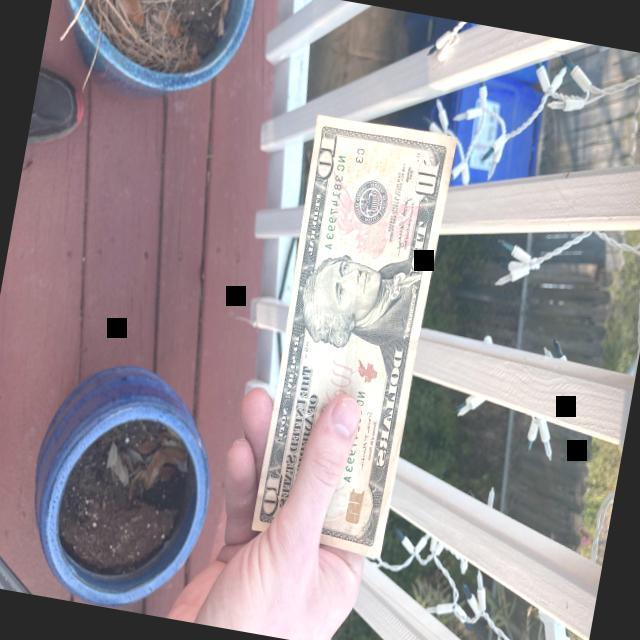ten: (248, 112, 457, 554)
